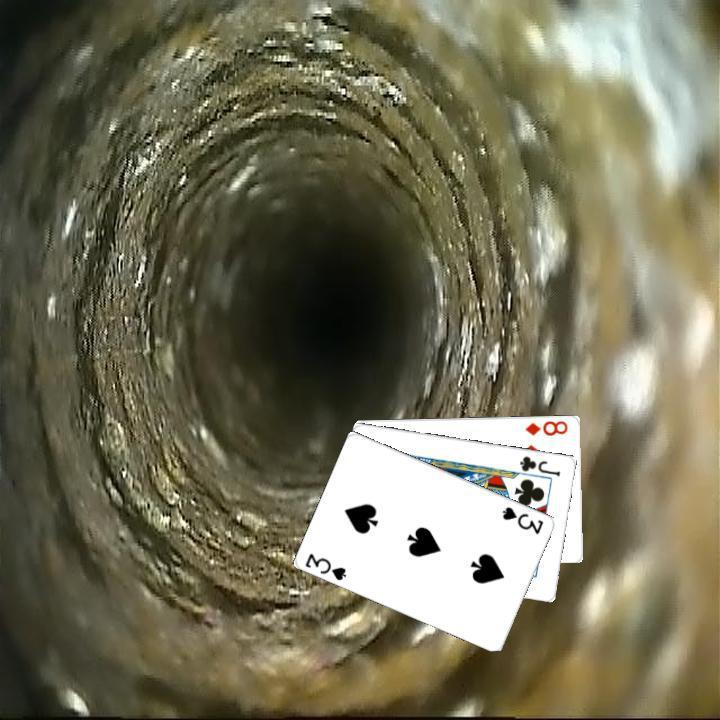3: (498, 502, 546, 536), (301, 549, 349, 583)
8: (521, 416, 570, 438)
J: (516, 451, 563, 478)
